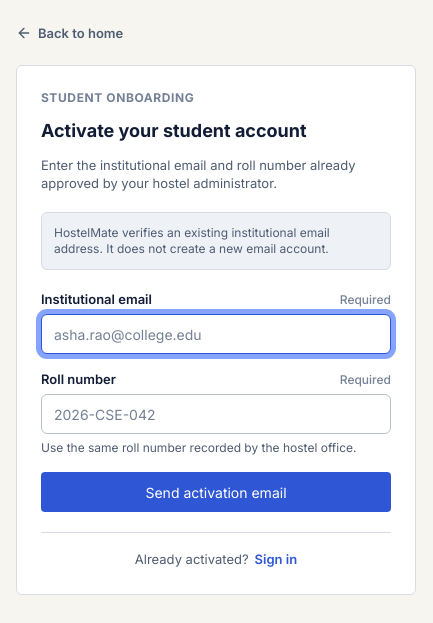
Test: student activation request › focuses the first invalid field and exposes its errors
The image size is (433, 623).
Click the button "Send activation email": (216, 492) [41,472,391,512]
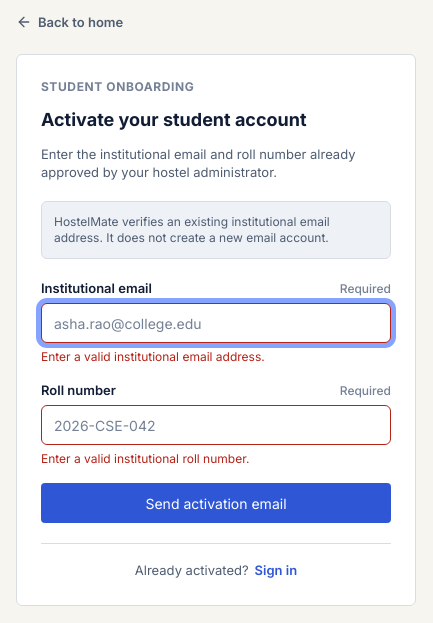
Now the number of messages is 2, box [41,349,265,364]; [41,451,249,466]
